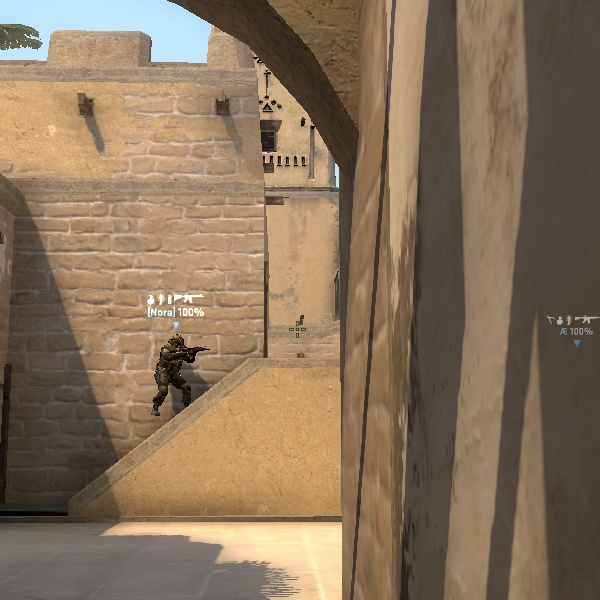ct_body: (146, 328, 202, 413)
t_body: (145, 327, 204, 415)
